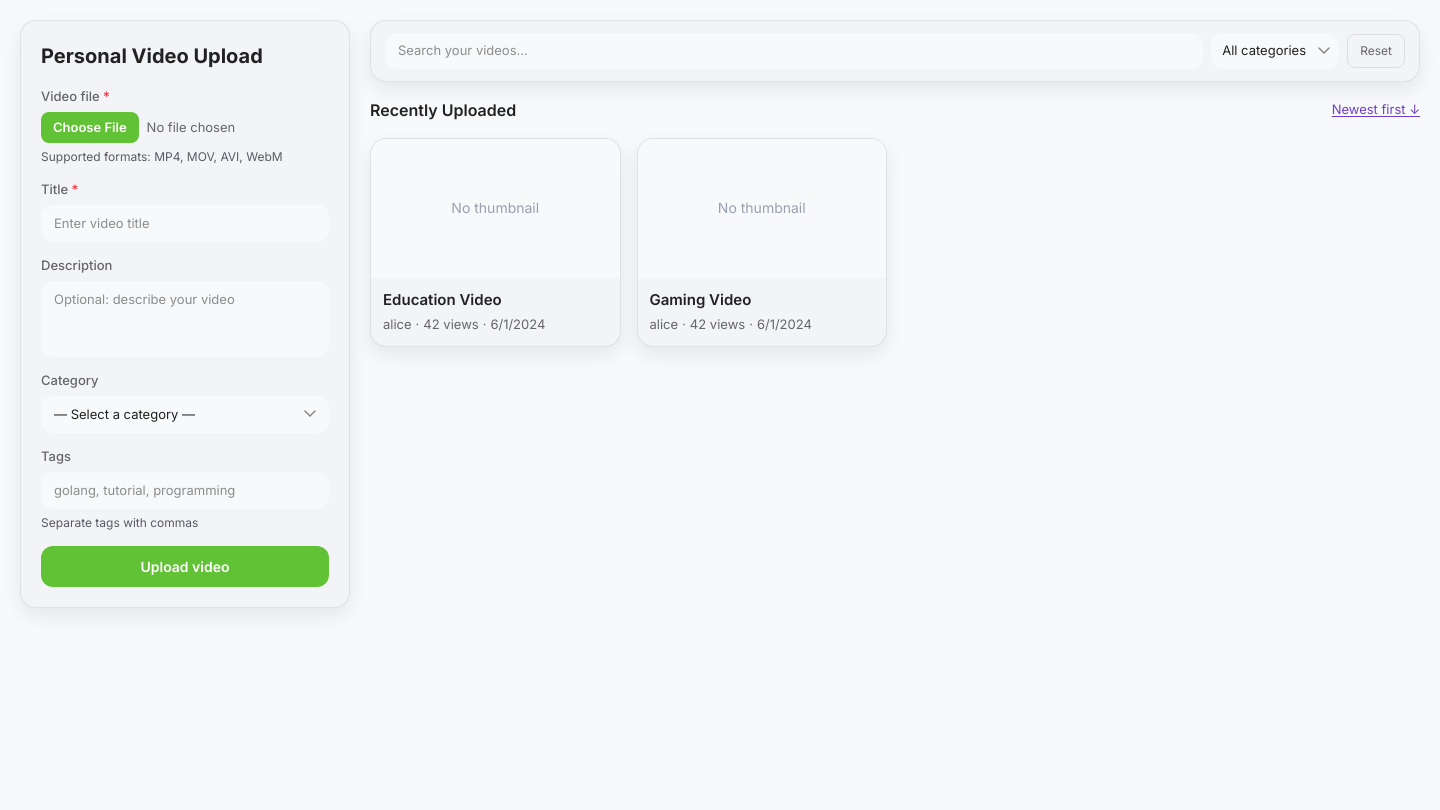
Test: UploadPage › filters videos by category
The image size is (1440, 810).
Expected: the link "Education Video" is shown, [383,290,502,309]
Select "Gaming" in the dropdown named "filter by category": point(1275, 51) [1211,33,1339,68]
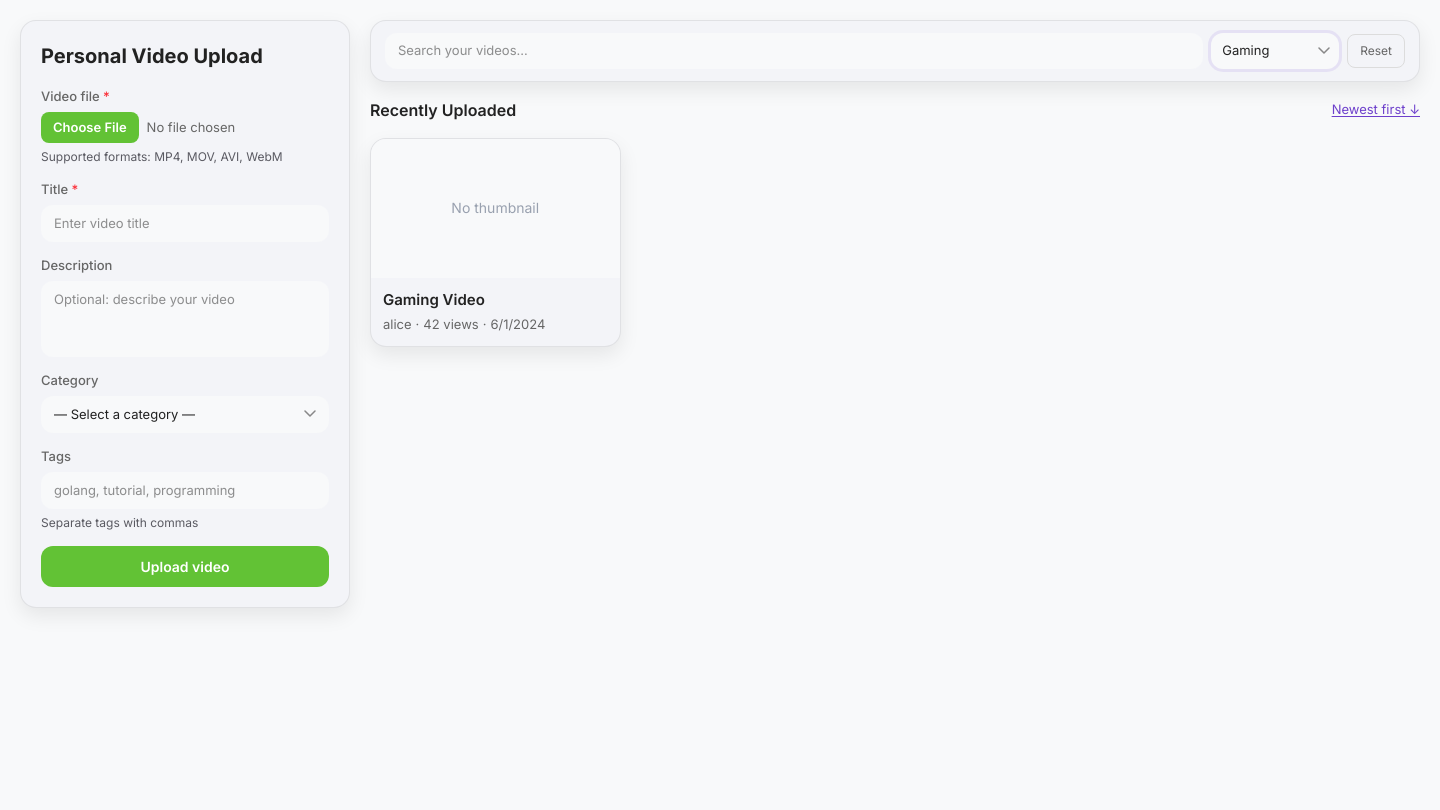
Expected: the link "Gaming Video" is shown, [383,290,485,309]
Expected: the link "Education Video" is gone
